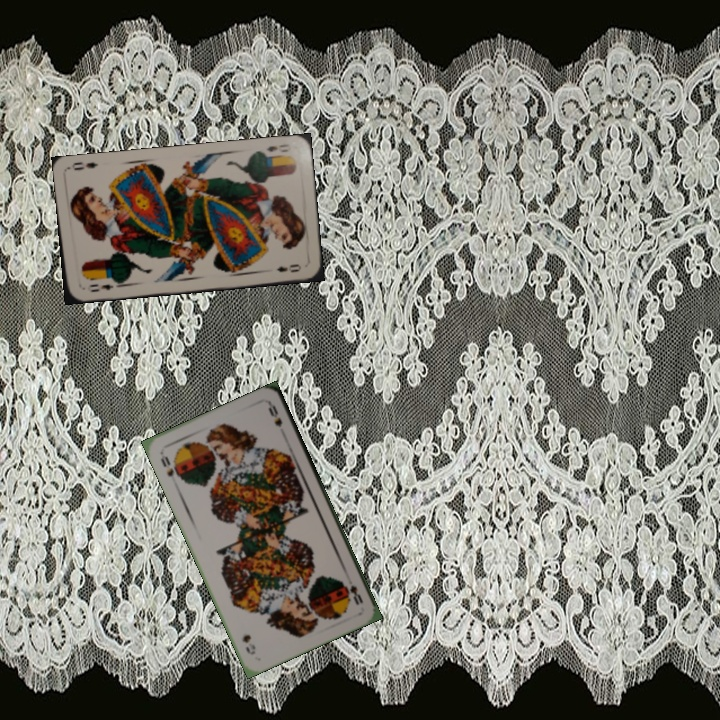EO: (84, 280, 116, 295), (263, 140, 291, 155)
SO: (342, 581, 366, 608), (157, 452, 177, 479)
